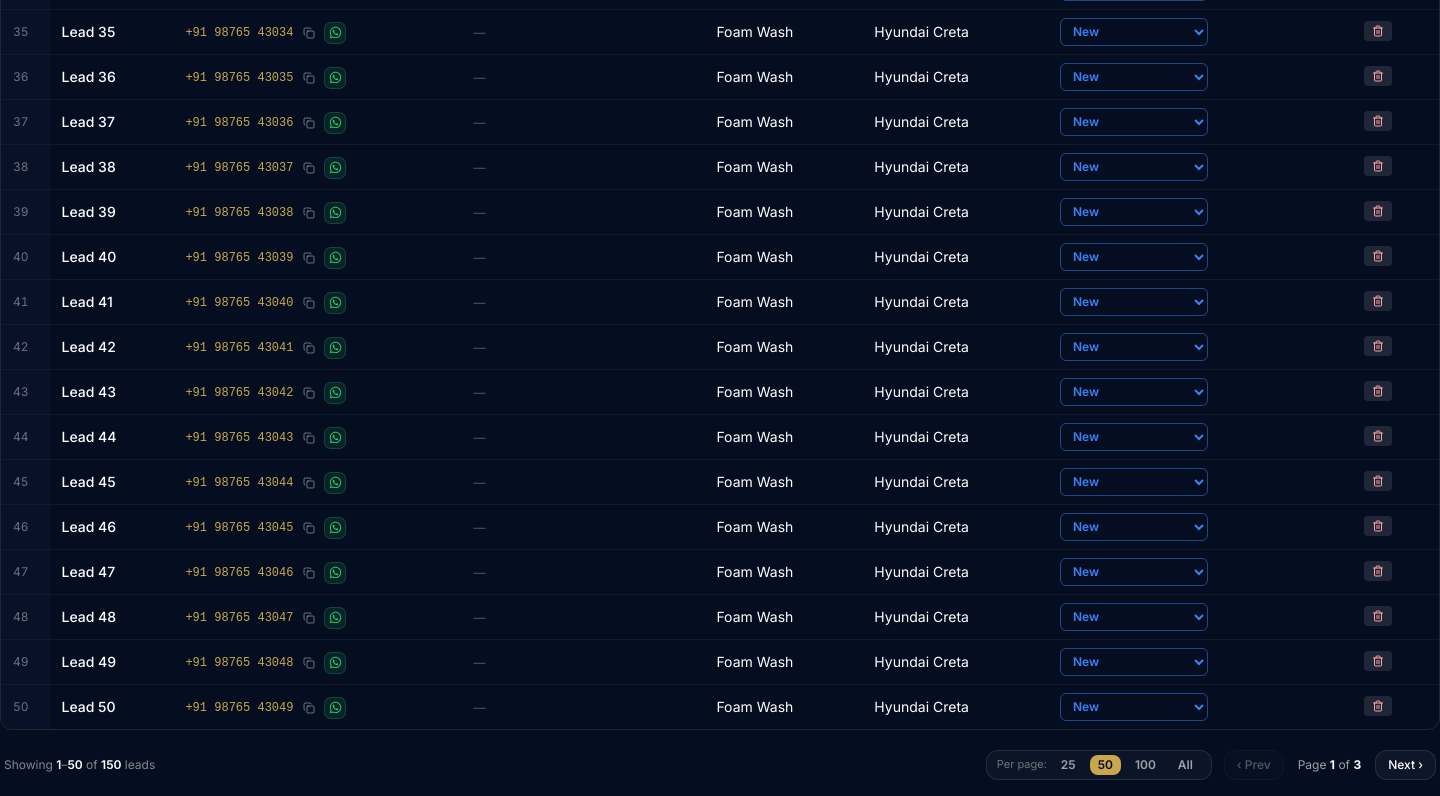
handles pagination correctly when 150 leads are passed
(page scrolled)
// Click Next ›
What coordinates should you click on to do the following:
click the button "Next ›"
I would click on:
 (1406, 765)
Its box is [1375,750,1436,780].
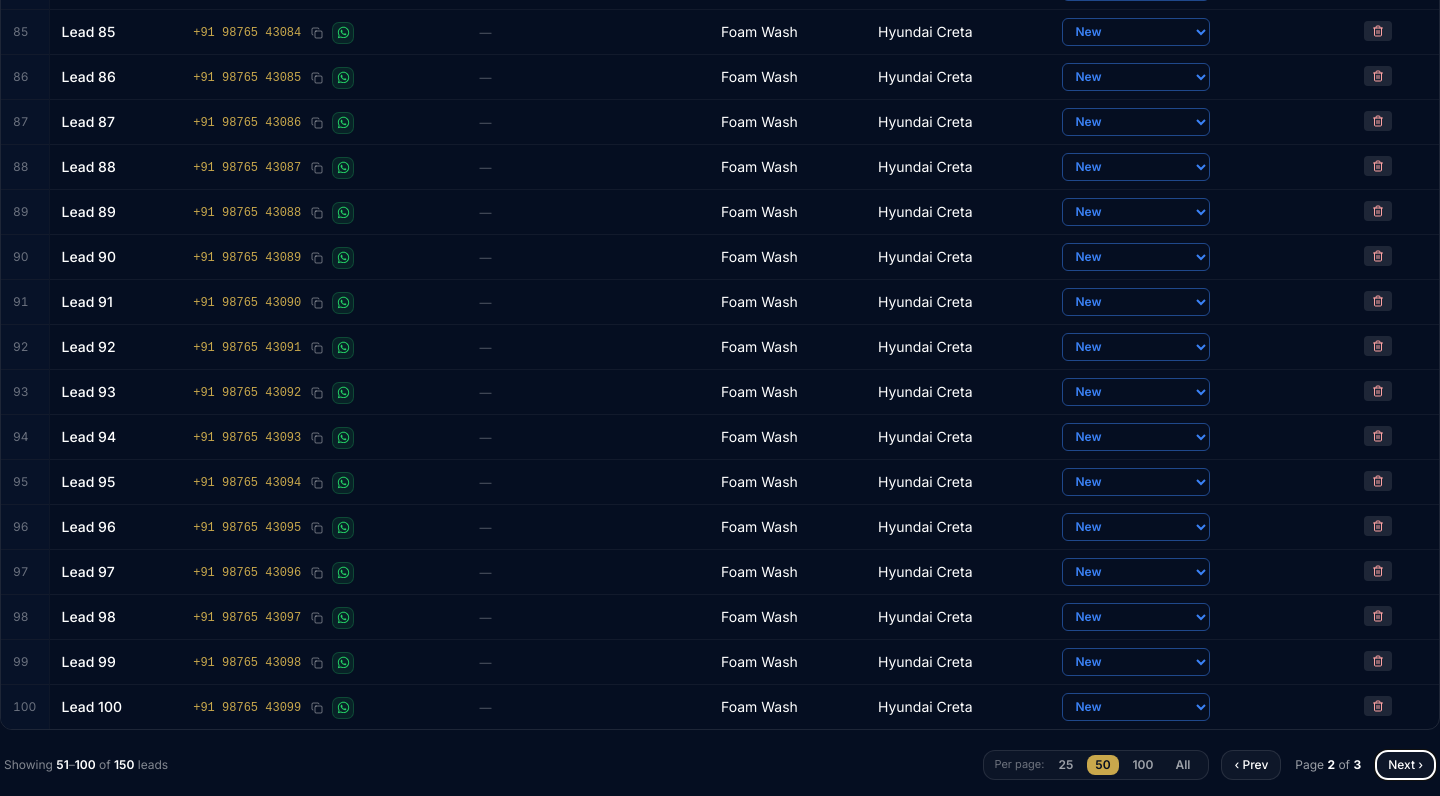
Check: the text "Page 2 of 3" is shown, box [1295,757,1361,772]
Check: the text "Showing 51–100 of 150 leads" is shown, box [4,757,168,773]
